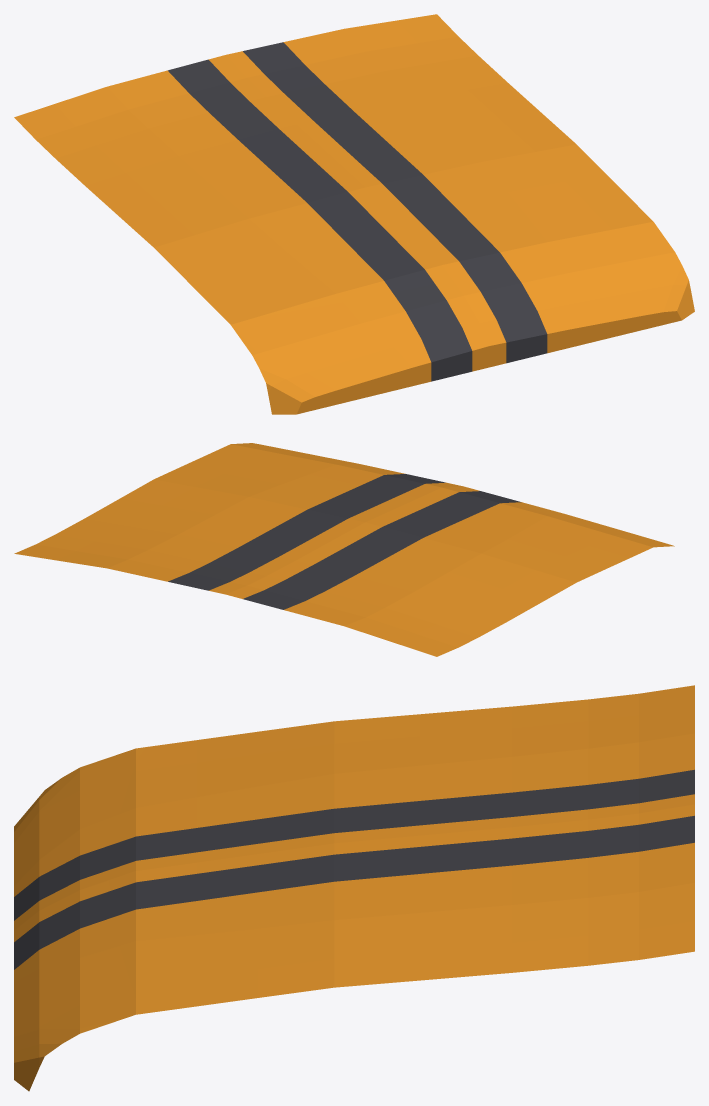
File: protoCoupe_hood_tsubame.glb
The picture shows the model from 3 angles, top to bottom: view 1: azimuth 30°, elevation 25°; view 2: azimuth 150°, elevation 25°; view 3: azimuth 270°, elevation 25°; orthographic projection. The views are drawn at different scales.
Visible parts, largest first — view 1: hood_tsubame; view 2: hood_tsubame; view 3: hood_tsubame.
Boxes of the visible parts, box(x1,y1,x2,y2) form: hood_tsubame: box(14, 14, 694, 414); hood_tsubame: box(14, 443, 674, 656); hood_tsubame: box(14, 685, 694, 1091).
Bounding box in the file's own units: 1.24 × 0.3345 × 1.34.
